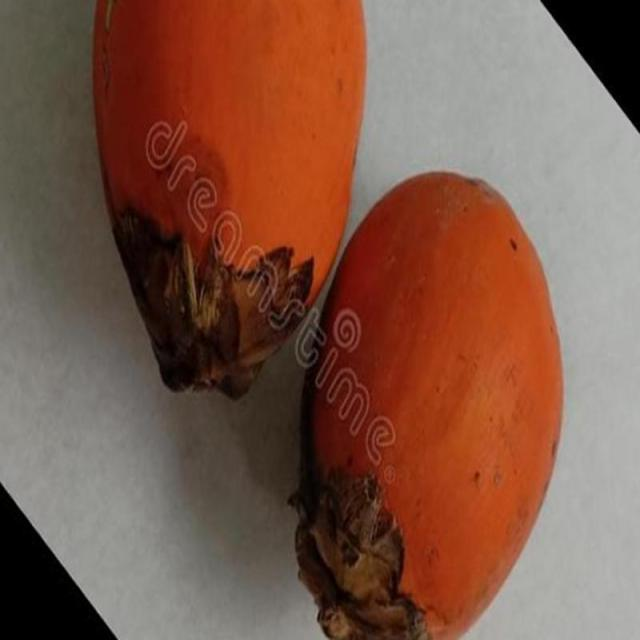good: (293, 172, 566, 639), (93, 0, 368, 401)
